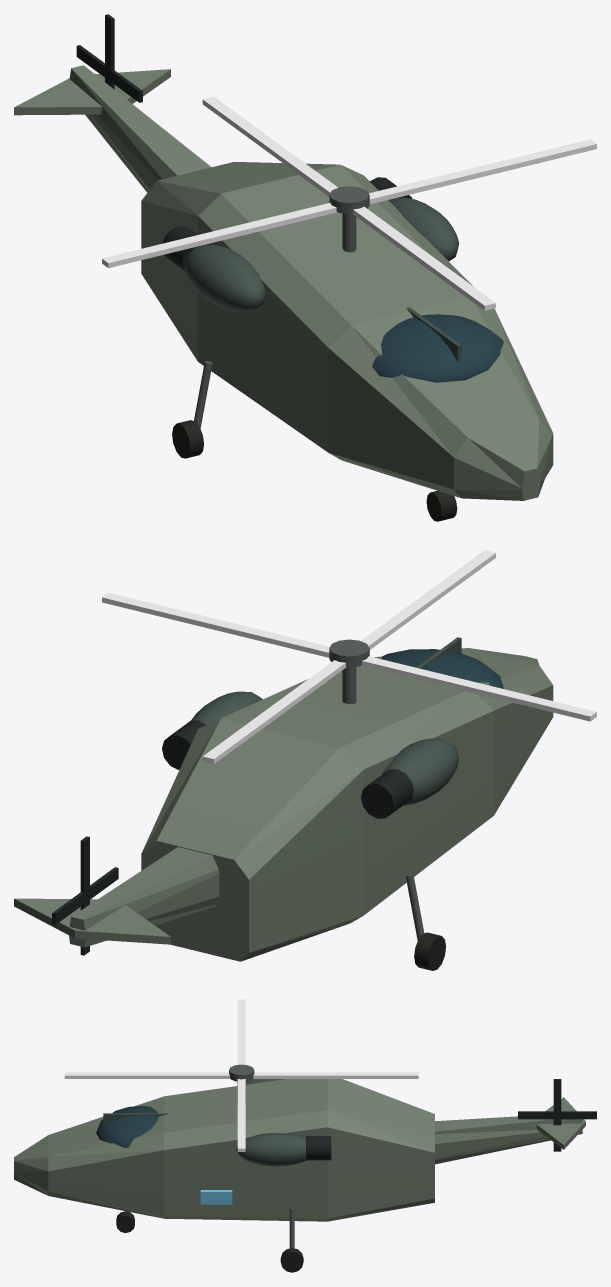
File: transport.glb
3 views of the same model, one above another, from view 1: azimuth 30°, elevation 25°; view 2: azimuth 150°, elevation 25°; view 3: azimuth 270°, elevation 25° (orthographic). The views are drawn at different scales.
Parts seen in each view (by area): view 1: armor, equipment (×4), glass; view 2: armor, equipment (×4), glass; view 3: armor, equipment (×4), glass, marking.
Boxes of the visible parts, x1,y1,x2,y2 form: armor: [14, 65, 553, 500]; equipment (×4): [76, 14, 596, 521]; glass: [372, 314, 503, 382]; armor: [14, 648, 553, 961]; equipment (×4): [52, 550, 596, 970]; glass: [381, 649, 503, 688]; armor: [14, 1079, 585, 1221]; equipment (×4): [64, 999, 596, 1272]; glass: [96, 1106, 158, 1148]; marking: [200, 1190, 232, 1204].
Bounding box in the file's own units: 5.6 × 2.86 × 9.23.
